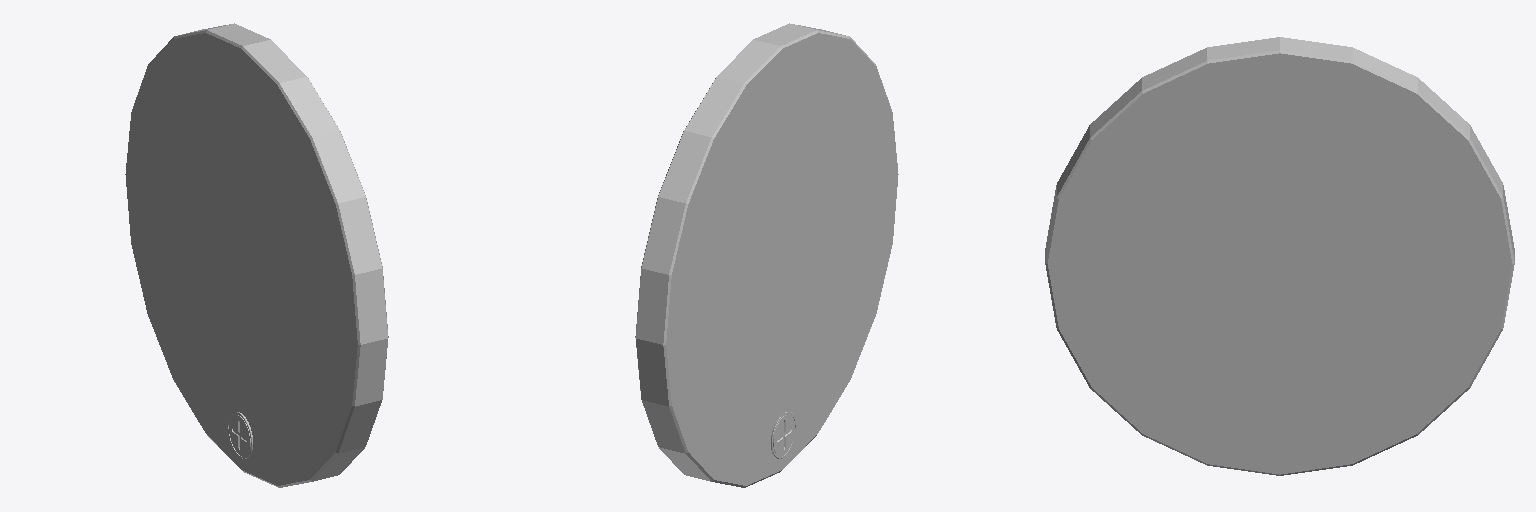
Rendered from CP3FrontCapMesh.obj.
The picture shows the model from 3 angles: view 1: azimuth 30°, elevation 25°; view 2: azimuth 150°, elevation 25°; view 3: azimuth 270°, elevation 25°; orthographic projection.
Visible parts, largest first — view 1: polySurface77; view 2: polySurface77; view 3: polySurface77.
Part boxes in pixels (x1,y1,x2,y2): polySurface77: (125, 23, 388, 487); polySurface77: (635, 23, 898, 487); polySurface77: (1045, 37, 1514, 475).
Bounding box in the file's own units: 0.37 × 4.6 × 4.6.